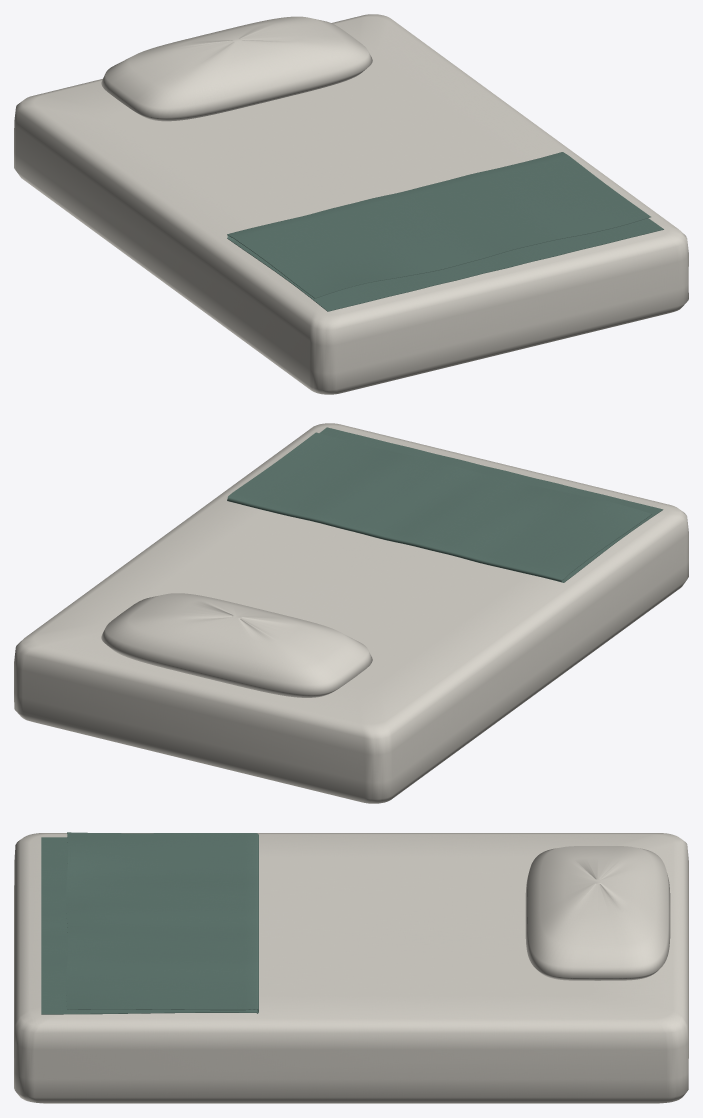
The model's file is mattress_dirty_022_v4.glb.
3 renders of one model, top to bottom at view 1: azimuth 30°, elevation 25°; view 2: azimuth 150°, elevation 25°; view 3: azimuth 270°, elevation 25°, orthographic. The views are drawn at different scales.
Parts seen in each view (by area): view 1: REUSE__mattress_dirty__022, R101V4_continuous_folded_blanket, R101V3_soft_pillow; view 2: REUSE__mattress_dirty__022, R101V4_continuous_folded_blanket, R101V3_soft_pillow; view 3: REUSE__mattress_dirty__022, R101V4_continuous_folded_blanket, R101V3_soft_pillow.
Boxes of the visible parts, x1,y1,x2,y2 form: REUSE__mattress_dirty__022: (14, 14, 688, 394); R101V4_continuous_folded_blanket: (227, 152, 663, 311); R101V3_soft_pillow: (101, 16, 372, 121); REUSE__mattress_dirty__022: (14, 423, 688, 803); R101V4_continuous_folded_blanket: (227, 427, 663, 582); R101V3_soft_pillow: (101, 593, 372, 697); REUSE__mattress_dirty__022: (14, 833, 688, 1103); R101V4_continuous_folded_blanket: (41, 832, 258, 1014); R101V3_soft_pillow: (525, 846, 670, 980).
Bounding box in the file's own units: 1.36 × 0.4073 × 1.96.
2 materials, 2 textured.
